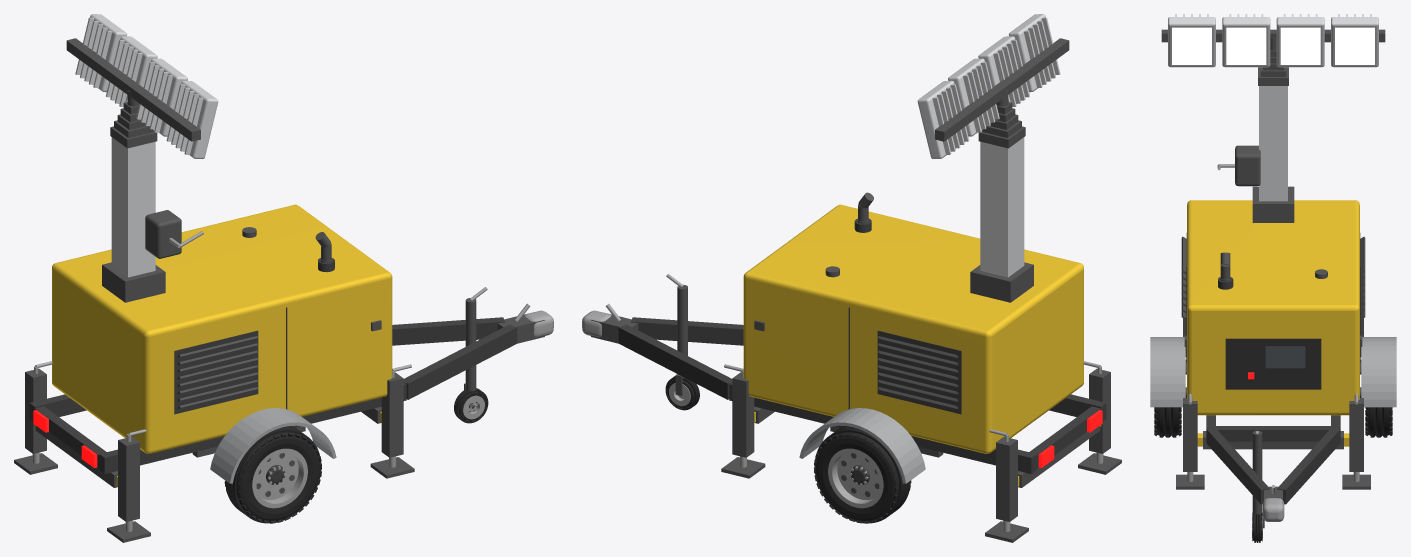
File: light_tower.glb
3 views of the same model, side by side, from view 1: azimuth 30°, elevation 25°; view 2: azimuth 150°, elevation 25°; view 3: azimuth 270°, elevation 25° (orthographic). The views are drawn at different scales.
Visible parts, largest first — view 1: canopy, trailer_frame, lamp_head_rotate, mast_base, wheel_right_spin, outrigger_rear_right_slide, outrigger_front_right_slide, outrigger_rear_left_slide, jockey_wheel_spin; view 2: canopy, trailer_frame, lamp_head_rotate, mast_base, wheel_left_spin, outrigger_rear_left_slide, outrigger_front_left_slide, outrigger_rear_right_slide, jockey_wheel_spin; view 3: canopy, trailer_frame, lamp_head_rotate, mast_base, outrigger_front_right_slide, outrigger_front_left_slide, wheel_right_spin, wheel_left_spin, jockey_wheel_spin.
Part boxes in pixels (x1=…): canopy: x1=52, y1=204, x2=392, y2=453; trailer_frame: x1=29, y1=287, x2=553, y2=487; lamp_head_rotate: x1=66, y1=14, x2=218, y2=158; mast_base: x1=102, y1=126, x2=203, y2=302; wheel_right_spin: x1=224, y1=426, x2=321, y2=523; outrigger_rear_right_slide: x1=107, y1=429, x2=150, y2=542; outrigger_front_right_slide: x1=370, y1=364, x2=414, y2=478; outrigger_rear_left_slide: x1=14, y1=361, x2=57, y2=474; jockey_wheel_spin: x1=454, y1=388, x2=488, y2=423; canopy: x1=743, y1=192, x2=1083, y2=453; trailer_frame: x1=582, y1=274, x2=1106, y2=487; lamp_head_rotate: x1=917, y1=14, x2=1069, y2=158; mast_base: x1=970, y1=126, x2=1033, y2=302; wheel_left_spin: x1=814, y1=426, x2=911, y2=523; outrigger_rear_left_slide: x1=985, y1=429, x2=1028, y2=542; outrigger_front_left_slide: x1=721, y1=364, x2=765, y2=478; outrigger_rear_right_slide: x1=1078, y1=361, x2=1121, y2=474; jockey_wheel_spin: x1=665, y1=376, x2=699, y2=410; canopy: x1=1181, y1=200, x2=1365, y2=415; trailer_frame: x1=1150, y1=337, x2=1396, y2=528; lamp_head_rotate: x1=1161, y1=14, x2=1385, y2=67; mast_base: x1=1217, y1=67, x2=1294, y2=222; outrigger_front_right_slide: x1=1176, y1=393, x2=1204, y2=489; outrigger_front_left_slide: x1=1342, y1=393, x2=1370, y2=489; wheel_right_spin: x1=1154, y1=407, x2=1181, y2=437; wheel_left_spin: x1=1365, y1=407, x2=1392, y2=437; jockey_wheel_spin: x1=1252, y1=513, x2=1262, y2=542.
Bounding box in the file's own units: 3.14 × 2.68 × 1.54.
11 materials, 11 textured.
